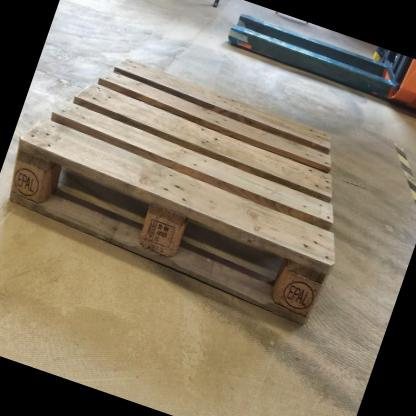BoxFace: (0, 50, 338, 339)
